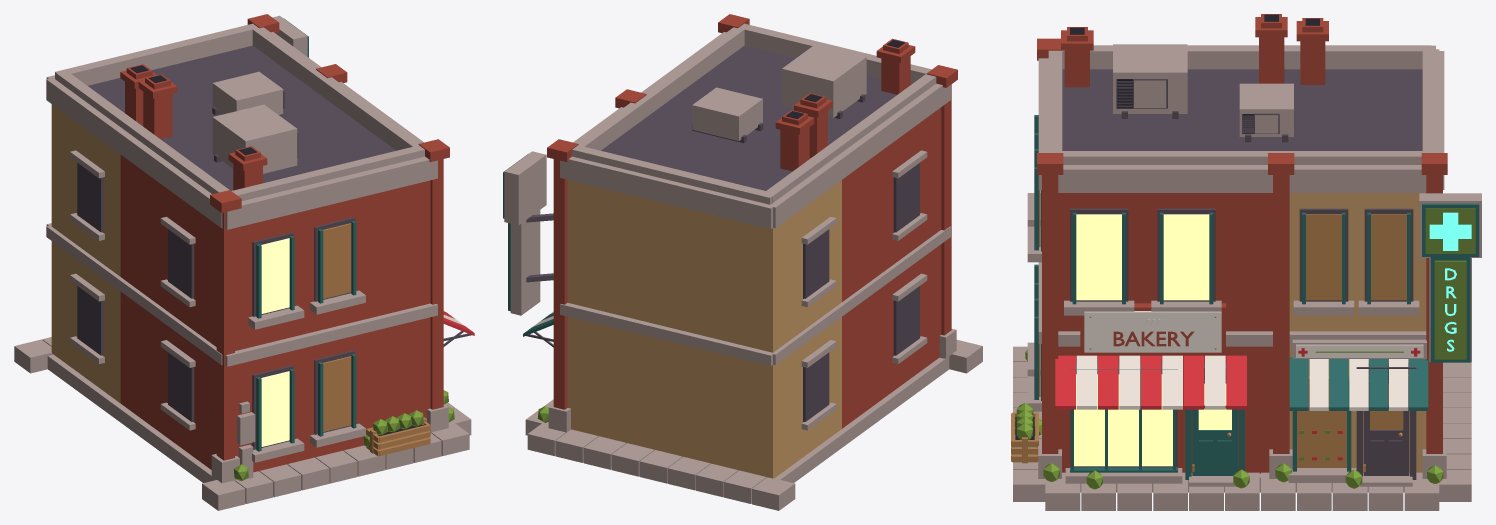
File: bld.mainstreet-brick.lod2.glb
3 views of the same model, side by side, from view 1: azimuth 30°, elevation 25°; view 2: azimuth 150°, elevation 25°; view 3: azimuth 270°, elevation 25° (orthographic). The views are drawn at different scales.
Visible parts, largest first — view 1: body, roof; view 2: body, roof; view 3: body, roof, door_pharmacy, door_bakery.
Part boxes in pixels (x1,y1,x2,y2): body: [14, 14, 474, 510]; roof: [55, 23, 424, 200]; body: [503, 14, 982, 510]; roof: [572, 23, 936, 204]; body: [1011, 38, 1481, 510]; roof: [1048, 14, 1435, 164]; door_pharmacy: [1363, 375, 1409, 475]; door_bakery: [1192, 375, 1237, 475].
Size of the model in its own units: 7.36 by 8.55 by 9.7.
